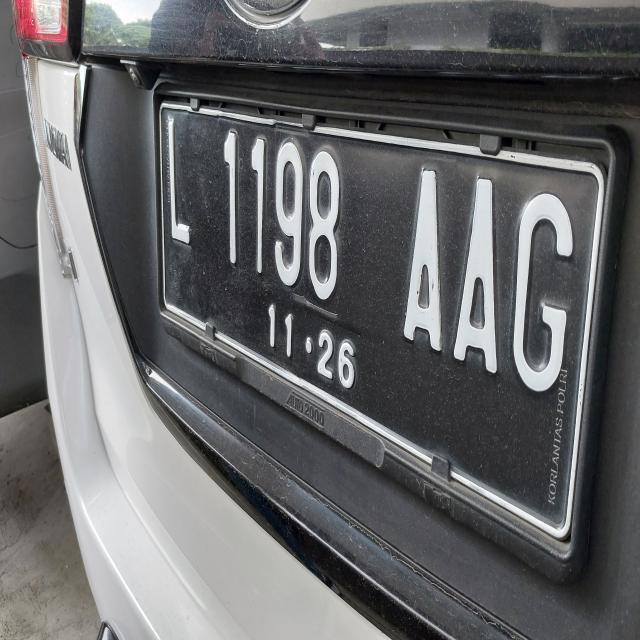1: (244, 124, 274, 288), (219, 126, 244, 280)
8: (306, 140, 349, 314)
9: (272, 130, 309, 296)
A: (447, 155, 510, 401), (386, 150, 448, 362)
G: (501, 165, 584, 411)
L: (160, 103, 204, 269)
